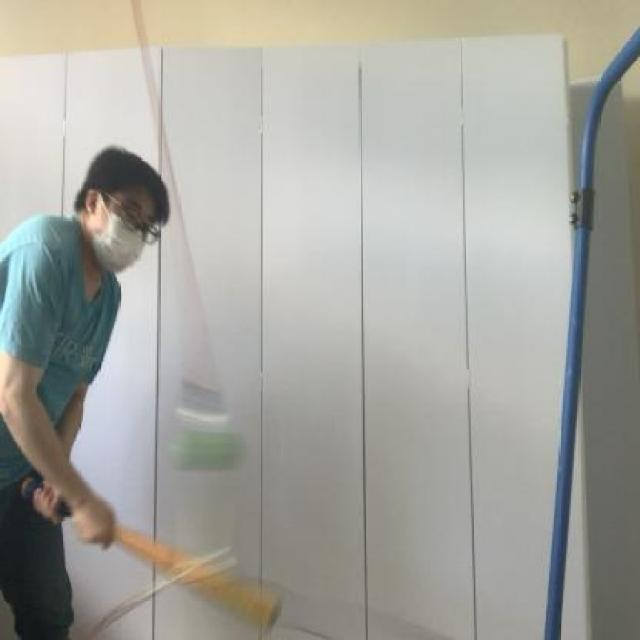baseball: (159, 414, 252, 480)
